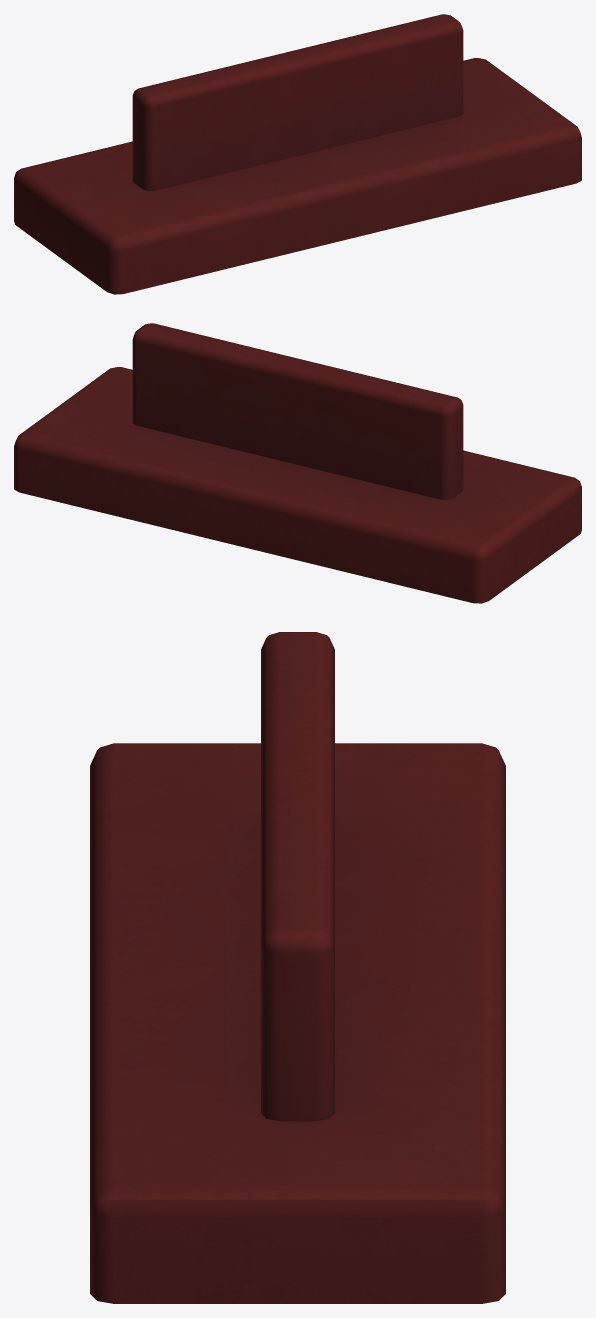
File: LobbyCrouch.fbx
3 renders of one model, top to bottom at view 1: azimuth 30°, elevation 25°; view 2: azimuth 150°, elevation 25°; view 3: azimuth 270°, elevation 25°, orthographic. The views are drawn at different scales.
Parts seen in each view (by area): view 1: LobbyCrouch; view 2: LobbyCrouch; view 3: LobbyCrouch.
Boxes of the visible parts, x1=… form: LobbyCrouch: x1=14, y1=14, x2=581, y2=294; LobbyCrouch: x1=14, y1=323, x2=581, y2=603; LobbyCrouch: x1=90, y1=632, x2=505, y2=1303.
Bounding box in the file's own units: 509 × 150 × 194.
